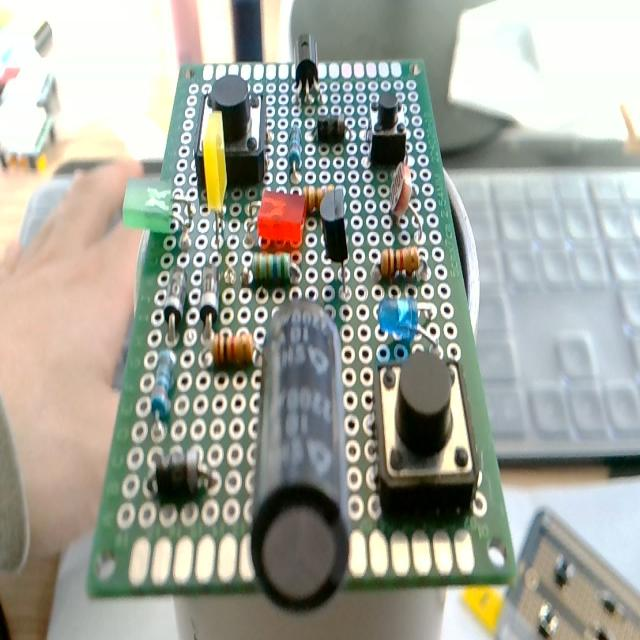Electrolytic capacitor: (250, 300, 350, 613)
cds: (387, 161, 421, 240)
diode: (150, 446, 214, 498), (162, 266, 187, 342), (200, 264, 220, 328), (316, 113, 346, 143)
led: (118, 174, 177, 238), (202, 115, 228, 256), (379, 296, 437, 350), (257, 188, 306, 249)
resistor: (152, 348, 176, 419), (213, 332, 255, 367), (251, 252, 293, 284), (380, 246, 419, 278), (304, 184, 334, 213), (288, 122, 302, 174)
switch: (374, 349, 476, 512), (195, 81, 267, 189), (367, 92, 405, 164)
transistor: (322, 187, 351, 298), (293, 33, 319, 95)
